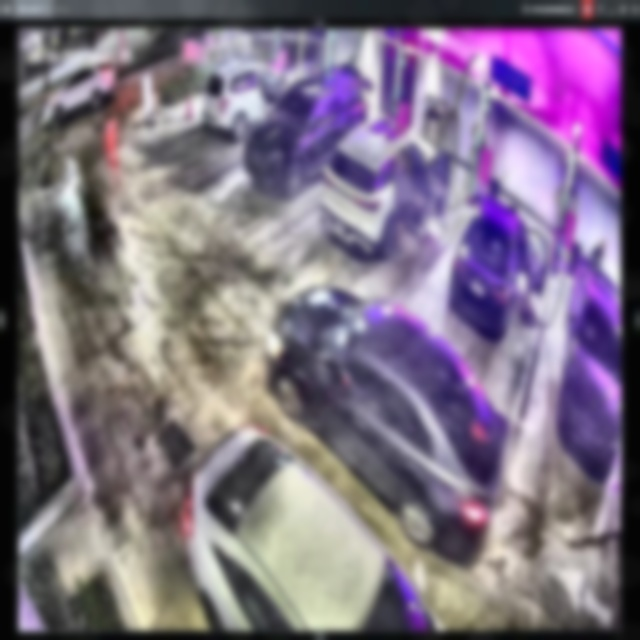Car: (265, 285, 508, 564), (180, 423, 444, 640), (326, 115, 447, 262), (249, 68, 367, 195), (448, 195, 542, 330), (203, 59, 295, 142)
